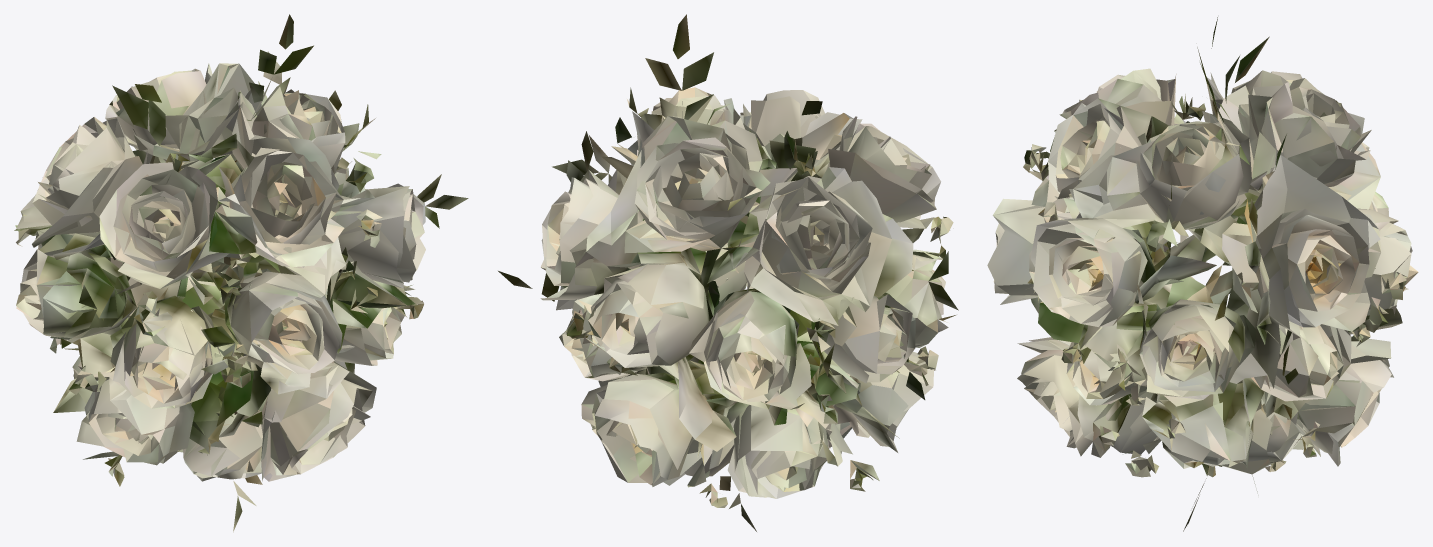
The model's file is rose-spray-white.glb.
3 renders of one model, left to right at view 1: azimuth 30°, elevation 25°; view 2: azimuth 150°, elevation 25°; view 3: azimuth 270°, elevation 25°, orthographic. The views are drawn at different scales.
Size of the model in its own units: 0.8446 by 1 by 0.7487.
1 material, 1 textured.
